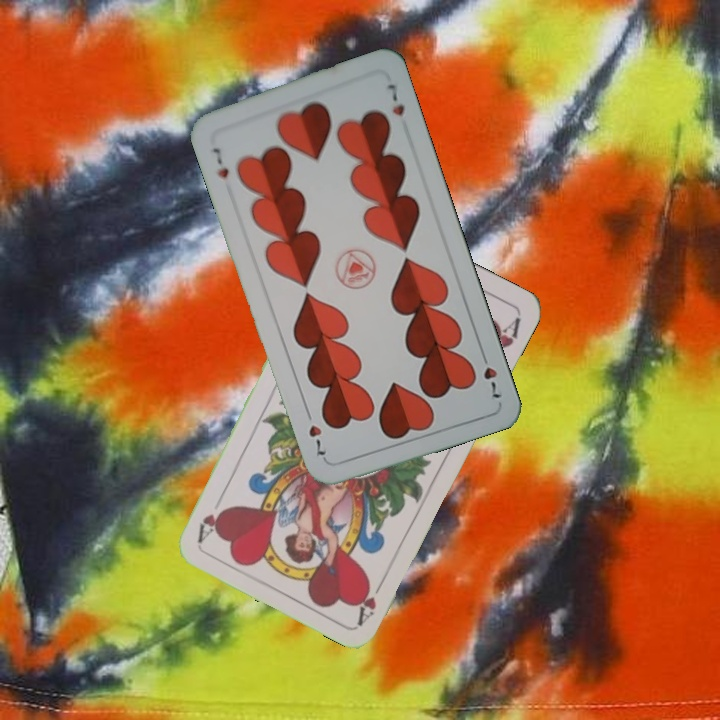H7: (476, 346, 505, 401), (208, 144, 232, 181)
HA: (352, 571, 389, 626)
